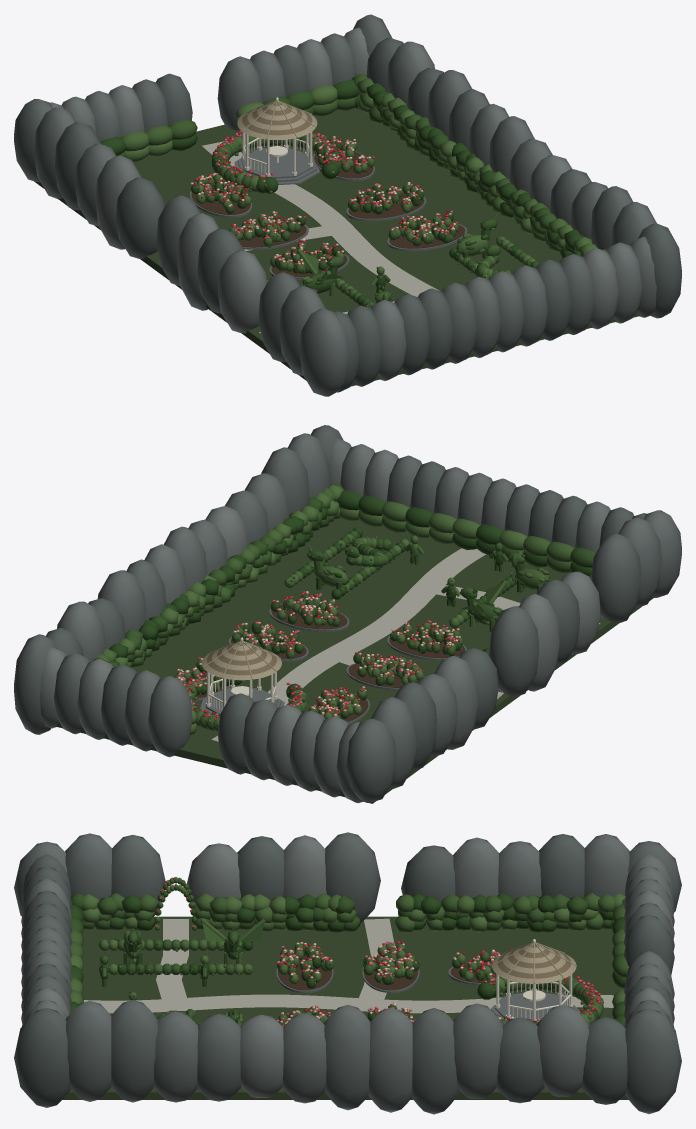
The model's file is underground-garden-rebuilt-v1.glb.
3 renders of one model, top to bottom at view 1: azimuth 30°, elevation 25°; view 2: azimuth 150°, elevation 25°; view 3: azimuth 270°, elevation 25°, orthographic. The views are drawn at different scales.
Visible parts, largest first — view 1: Earth base, Winding north south gravel, Irregular cavern boundary, Irregular cavern boundary.003, Irregular cavern boundary.007, Irregular cavern boundary.013, Irregular cavern boundary.008, End cavern rock.020, Irregular cavern boundary.005, Irregular cavern boundary.001, Irregular cavern boundary.010, Irregular cavern boundary.006 (+44 smaller); view 2: Earth base, Winding north south gravel, Irregular cavern boundary.006, Irregular cavern boundary.002, Irregular cavern boundary.012, End cavern rock.020, Irregular cavern boundary.027, Irregular cavern boundary.011, Irregular cavern boundary.008, Irregular cavern boundary.005, Irregular cavern boundary.001, End cavern rock.019 (+42 smaller); view 3: Earth base, Irregular cavern boundary.027, Irregular cavern boundary.013, Winding north south gravel, Irregular cavern boundary.022, Irregular cavern boundary.020, Irregular cavern boundary.021, Irregular cavern boundary.015, Irregular cavern boundary.014, Irregular cavern boundary.023, Irregular cavern boundary.025, Irregular cavern boundary.016 (+45 smaller).
Part boxes in pixels (x1,y1,x2,y2): Earth base: [34, 108, 640, 386]; Winding north south gravel: [202, 141, 439, 295]; Irregular cavern boundary: [299, 309, 349, 396]; Irregular cavern boundary.003: [218, 250, 266, 333]; Irregular cavern boundary.007: [116, 177, 164, 259]; Irregular cavern boundary.013: [638, 223, 681, 318]; Irregular cavern boundary.008: [95, 155, 141, 249]; End cavern rock.020: [217, 56, 262, 130]; Irregular cavern boundary.005: [177, 213, 218, 310]; Irregular cavern boundary.001: [279, 286, 326, 375]; Irregular cavern boundary.010: [55, 122, 100, 210]; Irregular cavern boundary.006: [156, 195, 200, 285]; Earth base: [55, 518, 654, 803]; Winding north south gravel: [211, 548, 485, 741]; Irregular cavern boundary.006: [489, 606, 538, 696]; Irregular cavern boundary.002: [591, 533, 640, 623]; Irregular cavern boundary.012: [346, 718, 396, 802]; End cavern rock.020: [148, 676, 192, 757]; Irregular cavern boundary.027: [14, 634, 56, 734]; Irregular cavern boundary.011: [371, 697, 416, 788]; Irregular cavern boundary.008: [434, 656, 477, 749]; Irregular cavern boundary.005: [519, 594, 559, 691]; Irregular cavern boundary.001: [618, 517, 661, 607]; End cavern rock.019: [217, 693, 254, 774]; Earth base: [62, 916, 628, 1099]; Irregular cavern boundary.027: [625, 1008, 681, 1113]; Irregular cavern boundary.013: [14, 1008, 70, 1107]; Winding north south gravel: [83, 994, 613, 1013]; Irregular cavern boundary.022: [412, 1008, 460, 1114]; Irregular cavern boundary.020: [324, 1004, 370, 1110]; Irregular cavern boundary.021: [368, 1007, 412, 1112]; Irregular cavern boundary.015: [111, 1000, 158, 1102]; Irregular cavern boundary.014: [65, 1001, 111, 1101]; Irregular cavern boundary.023: [453, 1003, 503, 1098]; Irregular cavern boundary.025: [536, 1005, 589, 1096]; Irregular cavern boundary.016: [153, 1011, 198, 1102].
Bounding box in the file's own units: 31.62 × 8.84 × 46.6.
